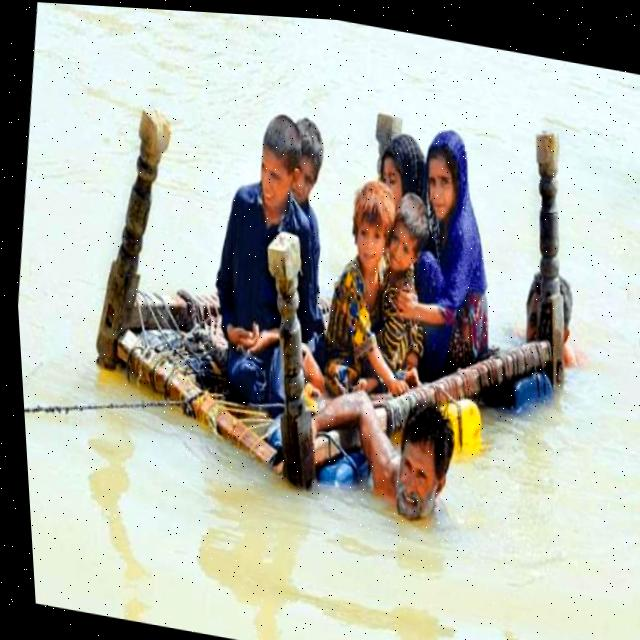civilian: (188, 100, 339, 418), (286, 367, 477, 550), (398, 124, 520, 375), (307, 170, 434, 405), (263, 102, 355, 335), (362, 177, 457, 396), (363, 122, 433, 209)
